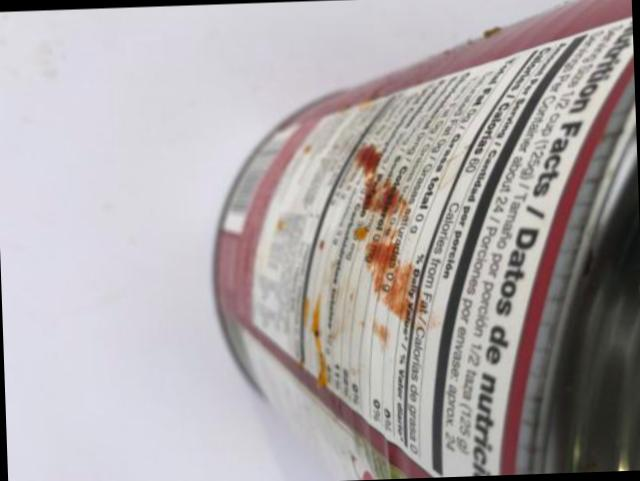metal: (212, 0, 640, 477)
